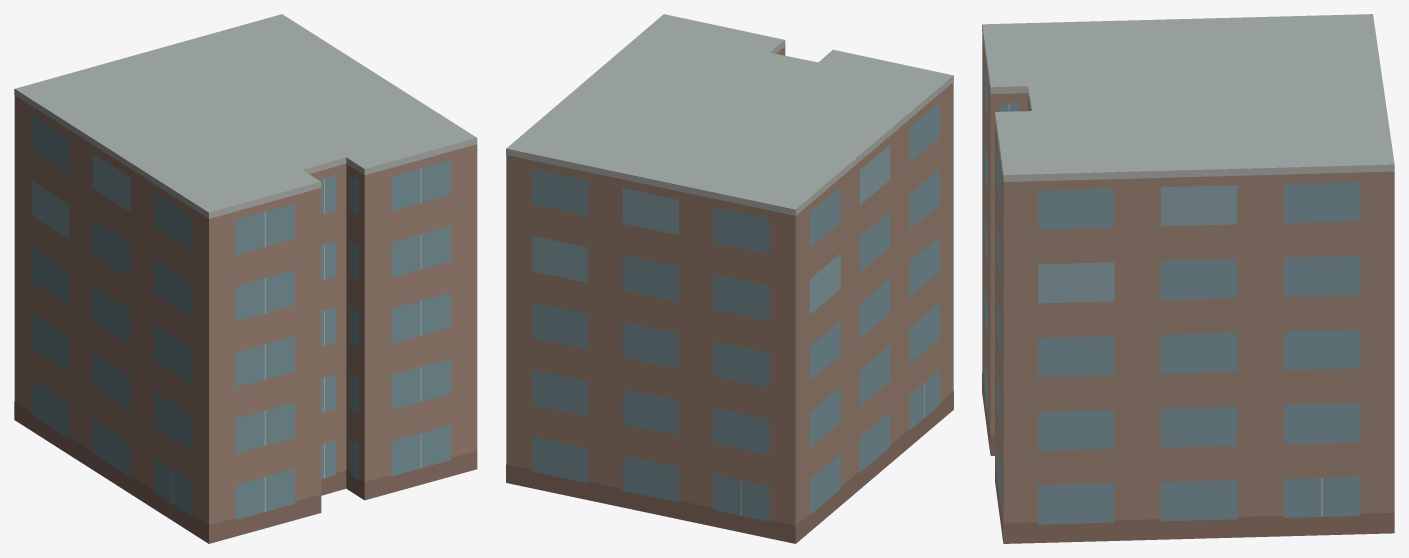
The model's file is survey-upis-32698605.glb.
3 renders of one model, left to right at view 1: azimuth 30°, elevation 25°; view 2: azimuth 150°, elevation 25°; view 3: azimuth 270°, elevation 25°, orthographic. The views are drawn at different scales.
Parts seen in each view (by area): view 1: survey-upis-32698605.tmp; view 2: survey-upis-32698605.tmp; view 3: survey-upis-32698605.tmp.
Part boxes in pixels (left/top/right/bottom): survey-upis-32698605.tmp: left=14, top=14, right=477, bottom=543; survey-upis-32698605.tmp: left=506, top=14, right=953, bottom=543; survey-upis-32698605.tmp: left=982, top=14, right=1394, bottom=543.
Size of the model in its own units: 12.2 by 13 by 13.19.
